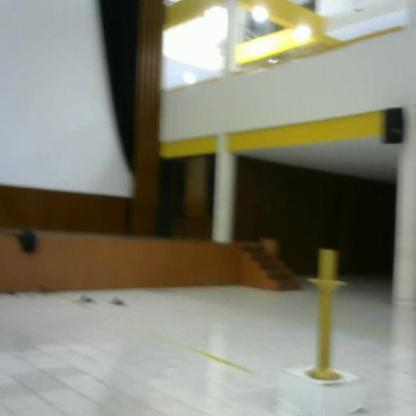pole: (304, 244, 349, 390)
